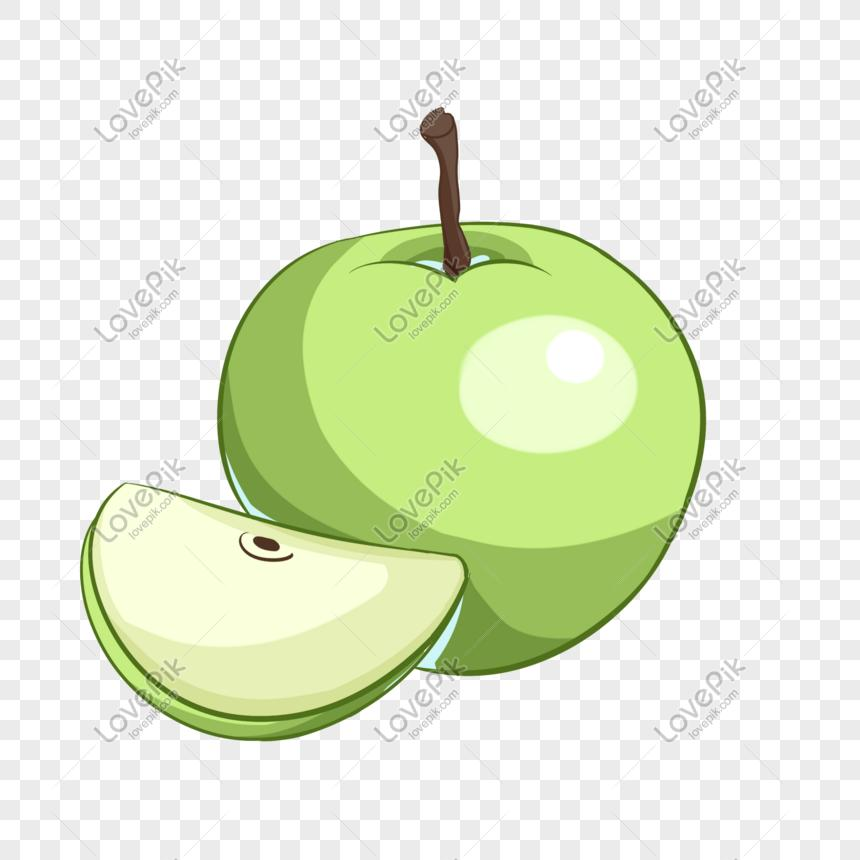apples: (53, 86, 736, 789)
